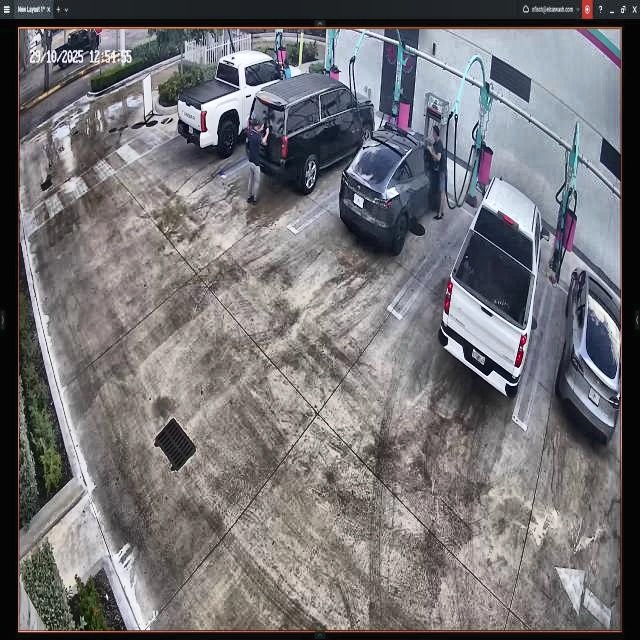Car: (440, 179, 546, 398), (246, 73, 375, 182), (339, 122, 444, 250), (179, 52, 303, 153)
